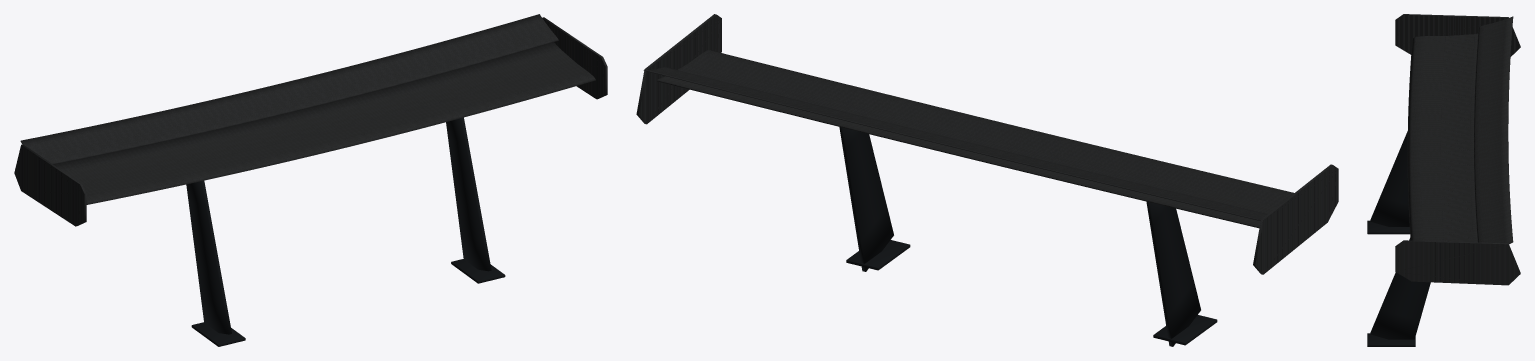
The model's file is RA60_double_element_wing.glb.
3 renders of one model, left to right at view 1: azimuth 30°, elevation 25°; view 2: azimuth 150°, elevation 25°; view 3: azimuth 270°, elevation 25°, orthographic. The views are drawn at different scales.
Visible parts, largest first — view 1: MOD_ND_RA60_main, MOD_ND_RA60_flap, MOD_ND_RA60_upright_R, MOD_ND_RA60_upright_L, MOD_ND_RA60_endplate_R, MOD_ND_RA60_endplate_L, MOD_ND_RA60_foot_L, MOD_ND_RA60_foot_R; view 2: MOD_ND_RA60_main, MOD_ND_RA60_flap, MOD_ND_RA60_endplate_R, MOD_ND_RA60_upright_R, MOD_ND_RA60_upright_L, MOD_ND_RA60_endplate_L, MOD_ND_RA60_foot_L, MOD_ND_RA60_foot_R; view 3: MOD_ND_RA60_main, MOD_ND_RA60_flap, MOD_ND_RA60_endplate_L, MOD_ND_RA60_upright_L, MOD_ND_RA60_endplate_R, MOD_ND_RA60_upright_R, MOD_ND_RA60_foot_L, MOD_ND_RA60_foot_R.
Boxes of the visible parts, bbox=[...] form: MOD_ND_RA60_main: bbox=[54, 42, 595, 204]; MOD_ND_RA60_flap: bbox=[20, 14, 558, 164]; MOD_ND_RA60_upright_R: bbox=[186, 180, 231, 334]; MOD_ND_RA60_upright_L: bbox=[446, 117, 491, 271]; MOD_ND_RA60_endplate_R: bbox=[14, 144, 86, 226]; MOD_ND_RA60_endplate_L: bbox=[542, 17, 607, 99]; MOD_ND_RA60_foot_L: bbox=[451, 259, 505, 283]; MOD_ND_RA60_foot_R: bbox=[191, 322, 245, 346]; MOD_ND_RA60_main: bbox=[657, 50, 1293, 228]; MOD_ND_RA60_flap: bbox=[643, 67, 1267, 220]; MOD_ND_RA60_endplate_R: bbox=[1253, 164, 1338, 274]; MOD_ND_RA60_upright_R: bbox=[1146, 201, 1200, 346]; MOD_ND_RA60_upright_L: bbox=[839, 127, 893, 271]; MOD_ND_RA60_endplate_L: bbox=[636, 14, 721, 124]; MOD_ND_RA60_foot_L: bbox=[846, 240, 910, 270]; MOD_ND_RA60_foot_R: bbox=[1153, 315, 1217, 345]; MOD_ND_RA60_main: bbox=[1407, 33, 1478, 242]; MOD_ND_RA60_flap: bbox=[1474, 16, 1513, 244]; MOD_ND_RA60_endplate_L: bbox=[1395, 240, 1520, 285]; MOD_ND_RA60_upright_L: bbox=[1370, 238, 1430, 339]; MOD_ND_RA60_endplate_R: bbox=[1395, 14, 1520, 56]; MOD_ND_RA60_upright_R: bbox=[1370, 131, 1409, 226]; MOD_ND_RA60_foot_L: bbox=[1367, 333, 1415, 346]; MOD_ND_RA60_foot_R: bbox=[1367, 220, 1409, 234].
Bounding box in the file's own units: 1.33 × 0.4419 × 0.38.
2 materials, 1 textured.
